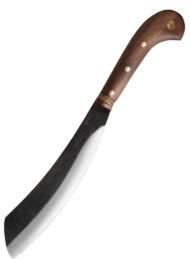MACHETTE: (0, 1, 190, 259)
